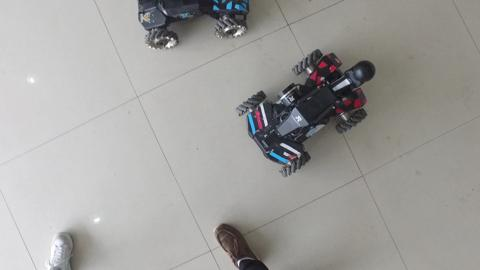chariot: (234, 46, 383, 187), (128, 1, 255, 58)
